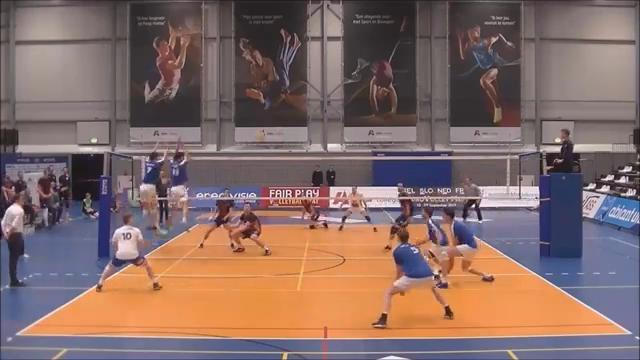muro: (137, 136, 168, 235), (165, 133, 192, 231)
